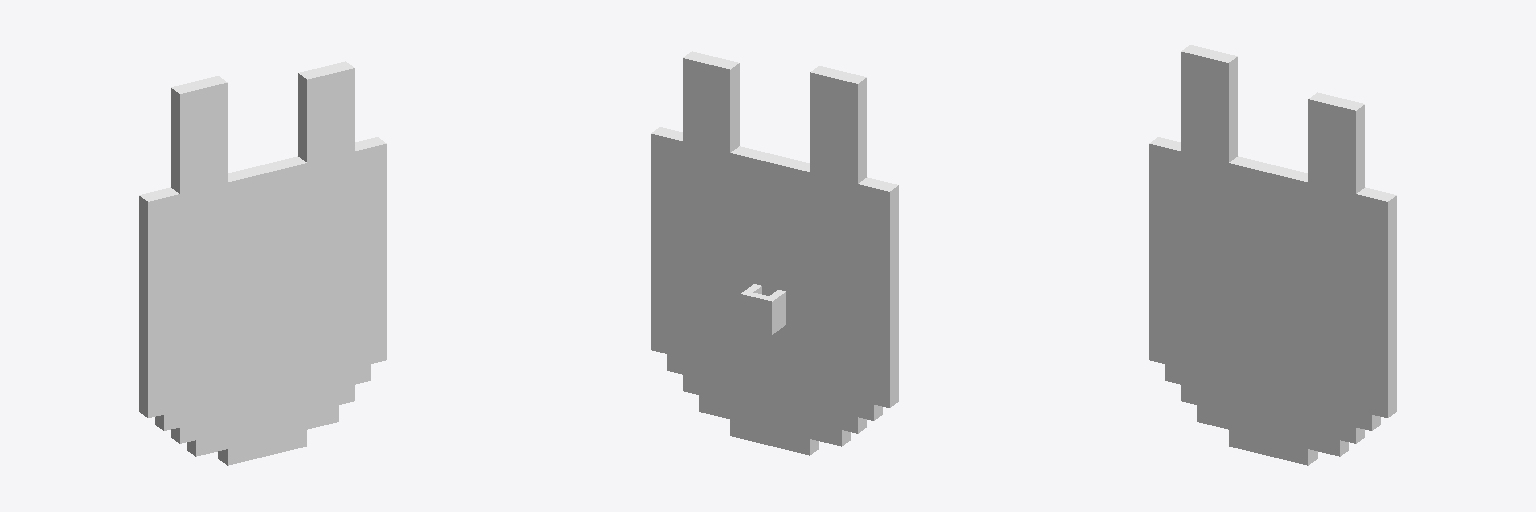
Rendered from Seld.obj.
The picture shows the model from 3 angles: view 1: azimuth 30°, elevation 25°; view 2: azimuth 150°, elevation 25°; view 3: azimuth 330°, elevation 25°; orthographic projection.
Visible parts, largest first — view 1: object 1; view 2: object 1; view 3: object 1.
Part boxes in pixels (x1,y1,x2,y2): object 1: (139,61,386,465); object 1: (651,51,898,455); object 1: (1149,45,1396,465).
Size of the model in its own units: 3 by 4.6 by 0.5.